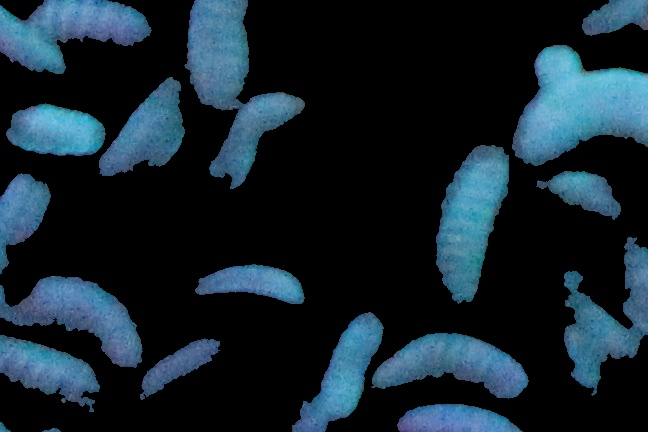larvae: (432, 131, 516, 319), (514, 47, 648, 162), (171, 1, 295, 122), (76, 66, 196, 186), (365, 322, 527, 407), (206, 85, 315, 203), (305, 305, 394, 429), (29, 276, 143, 368), (1, 339, 108, 413), (30, 1, 155, 60), (6, 99, 106, 166), (193, 252, 307, 308), (400, 394, 521, 432)
